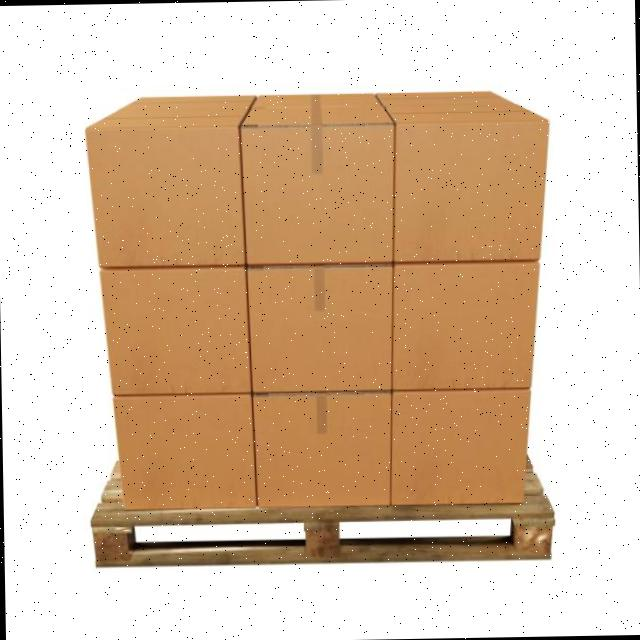Wooden-Pallets: (82, 502, 563, 567)
